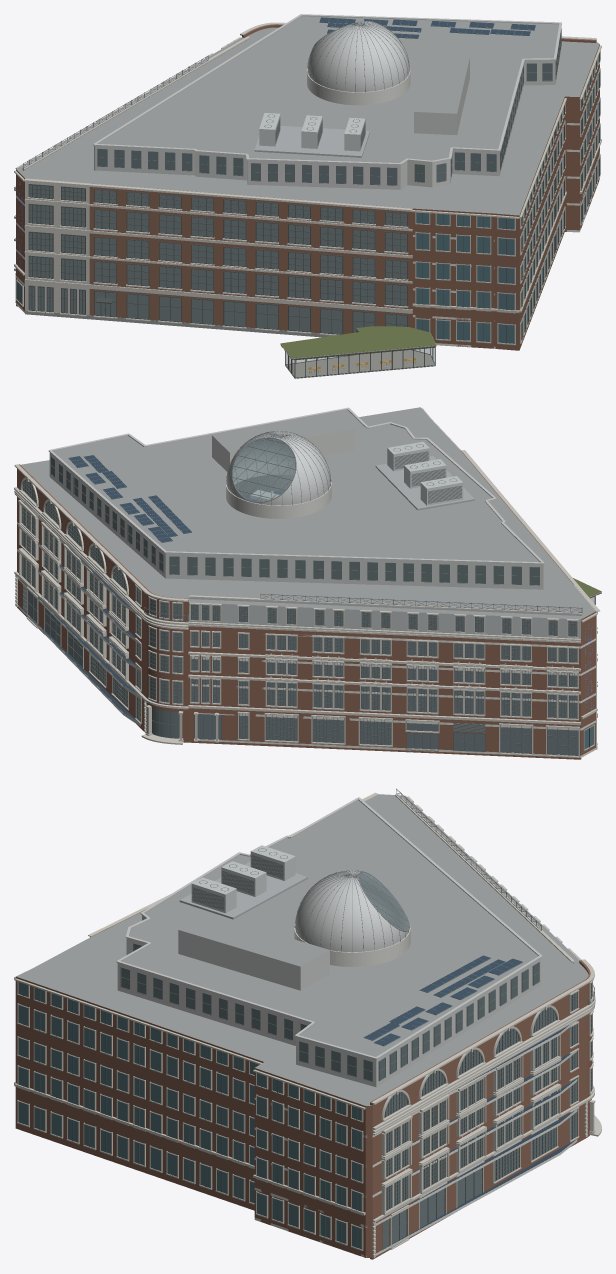
File: lrb-exterior-c4c9f74b4604.glb
3 views of the same model, one above another, from view 1: azimuth 30°, elevation 25°; view 2: azimuth 150°, elevation 25°; view 3: azimuth 270°, elevation 25° (orthographic). The views are drawn at different scales.
Visible parts, largest first — view 1: LRB.001; view 2: LRB.001; view 3: LRB.001.
Part boxes in pixels (x1,y1,x2,y2): LRB.001: (14, 14, 601, 378); LRB.001: (14, 407, 601, 759); LRB.001: (14, 788, 601, 1259).
Size of the model in its own units: 89.68 by 33.13 by 70.98.
